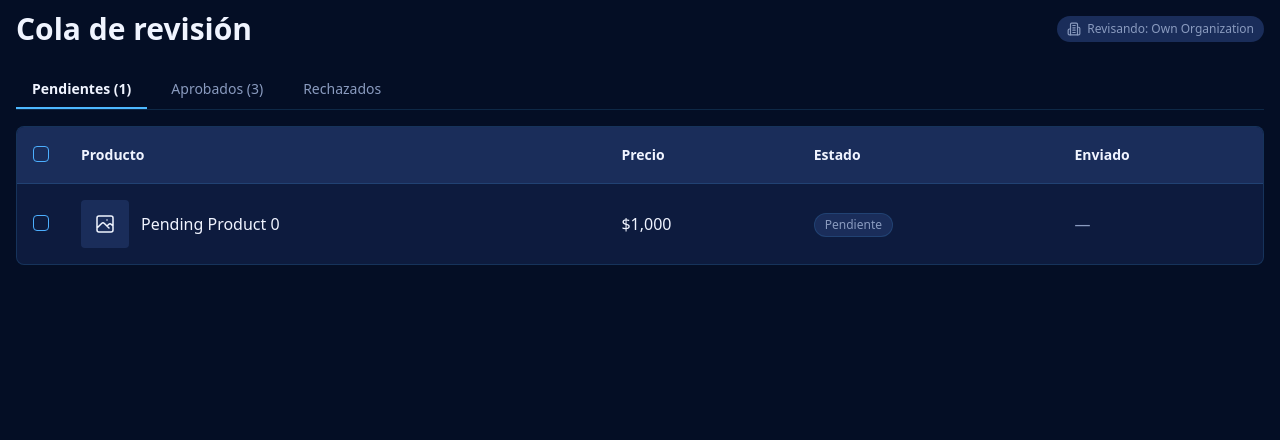
it: ReviewQueuePage › queries published products when the Aprobados tab is active
This screenshot has width=1280, height=440.
Click the tab "Aprobados (3)". click: click(217, 90)
box: [155,71,279,109]
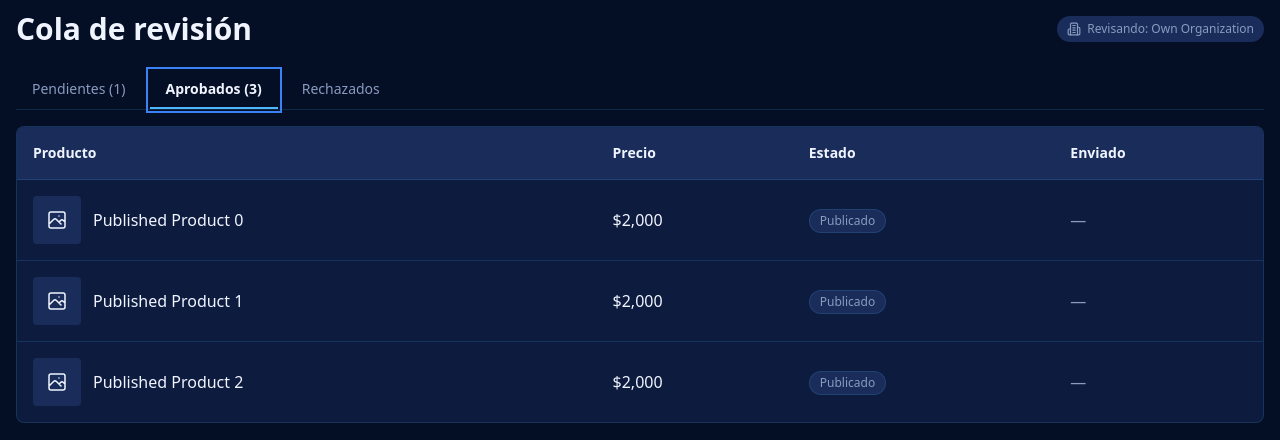
Result: the text "Published Product 0" is shown at [93,209,243,231]
